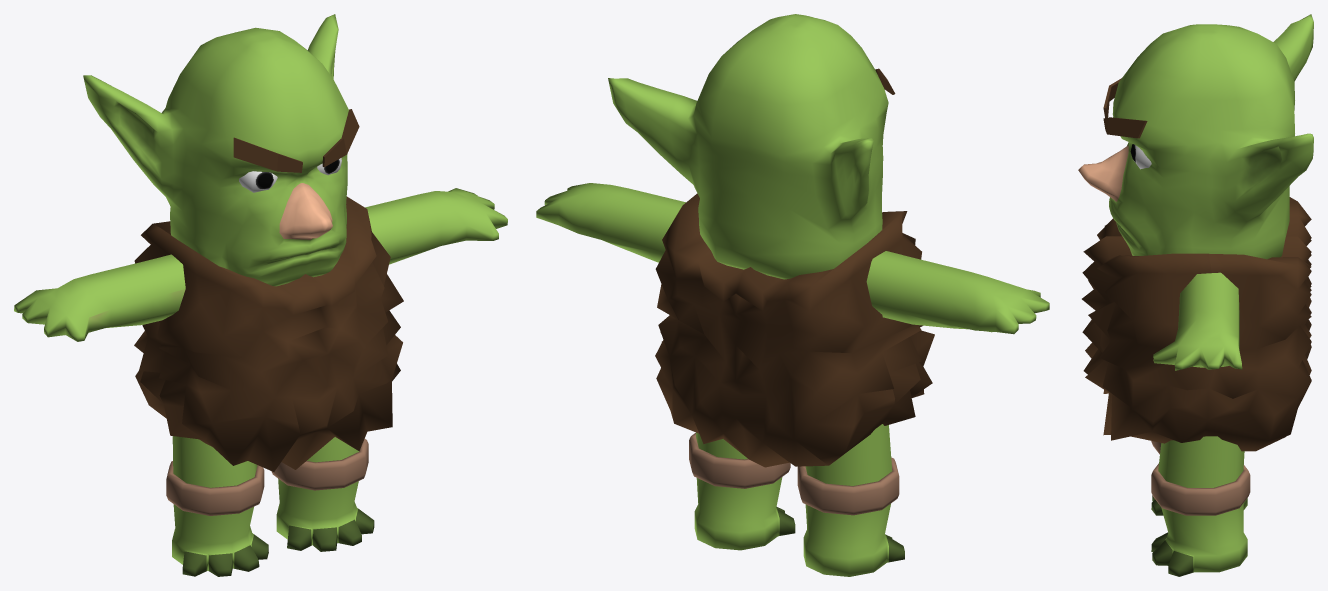
The model's file is Goblin.fbx.
3 renders of one model, left to right at view 1: azimuth 30°, elevation 25°; view 2: azimuth 150°, elevation 25°; view 3: azimuth 270°, elevation 25°, orthographic. The views are drawn at different scales.
Parts seen in each view (by area): view 1: cabeza2.001; view 2: cabeza2.001; view 3: cabeza2.001.
Part boxes in pixels (box(x1,y1,x2,y2)): cabeza2.001: box(14, 14, 507, 576); cabeza2.001: box(536, 14, 1049, 576); cabeza2.001: box(1078, 14, 1313, 576).
Size of the model in its own units: 126 by 130 by 55.7.
2 materials, 2 textured.
